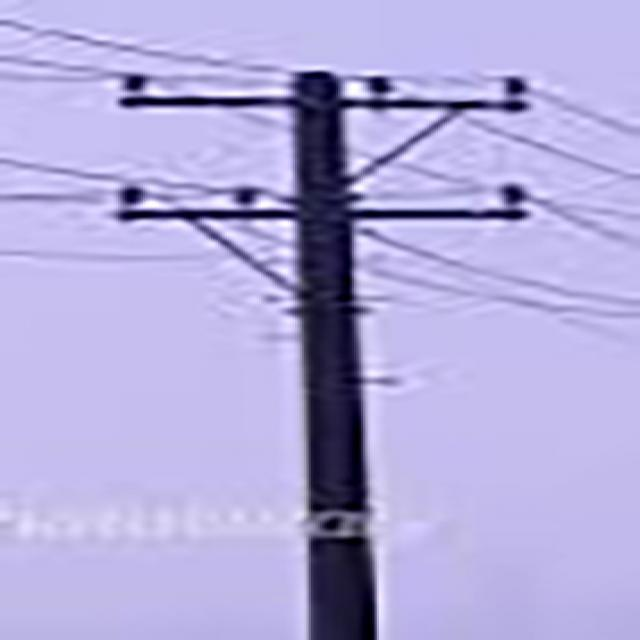pole: (90, 48, 570, 640)
